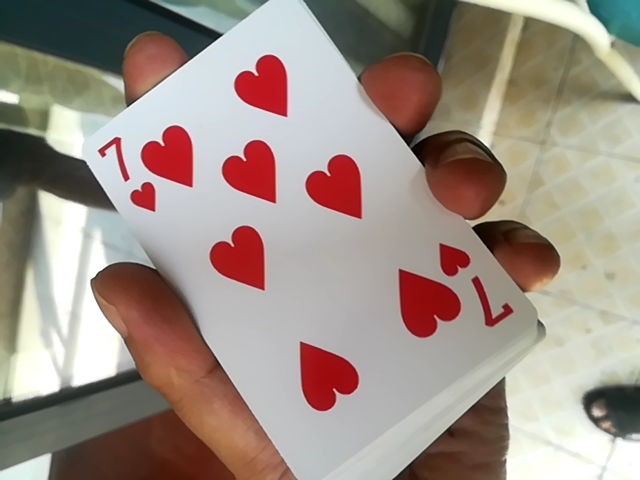hx 7: (61, 5, 505, 476)
